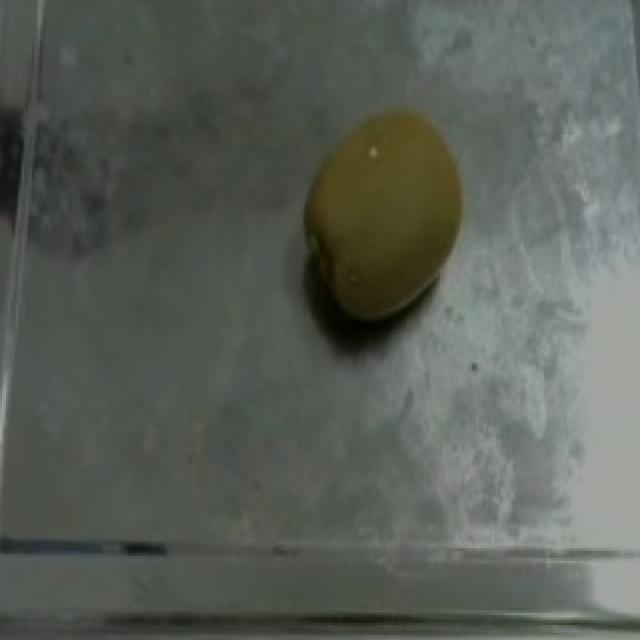Fruit: (286, 82, 492, 337)
